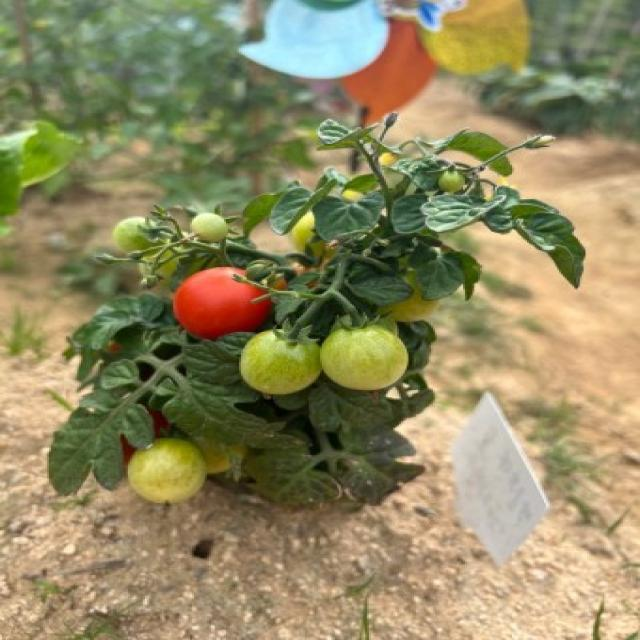level 1: (105, 208, 173, 268)
level 2: (233, 322, 331, 402), (185, 208, 231, 252)
level 3: (320, 318, 407, 400), (124, 438, 212, 508)
level 6: (166, 262, 272, 346)
